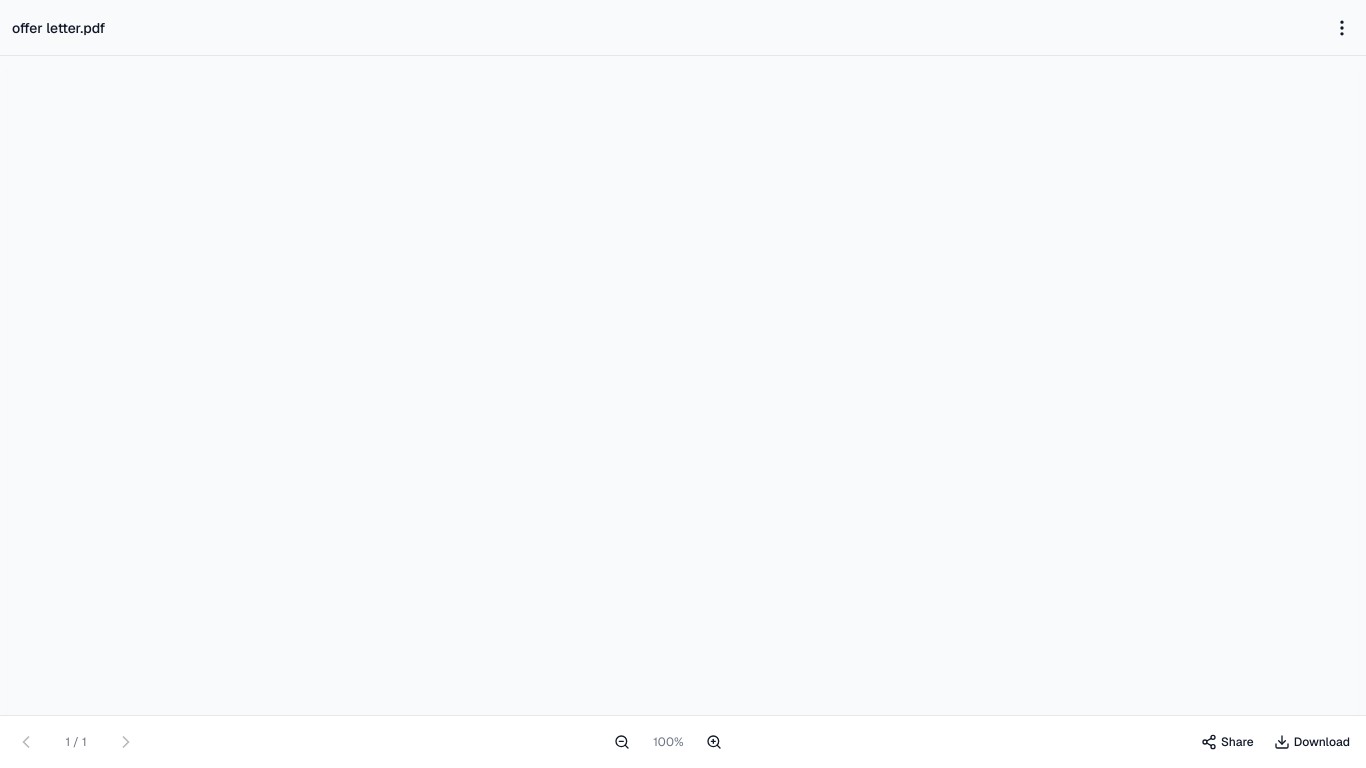
Scenario: PdfViewer — download › shows an error message if the download fetch fails, without crashing
The width and height of the screenshot is (1366, 768).
Expected: the text "1 / 1" is shown, [66, 734, 86, 750]
What coordinates should you click on to do the following:
click the button "Download"
I would click on:
 (1312, 742)
Its box is [1266, 724, 1358, 760].
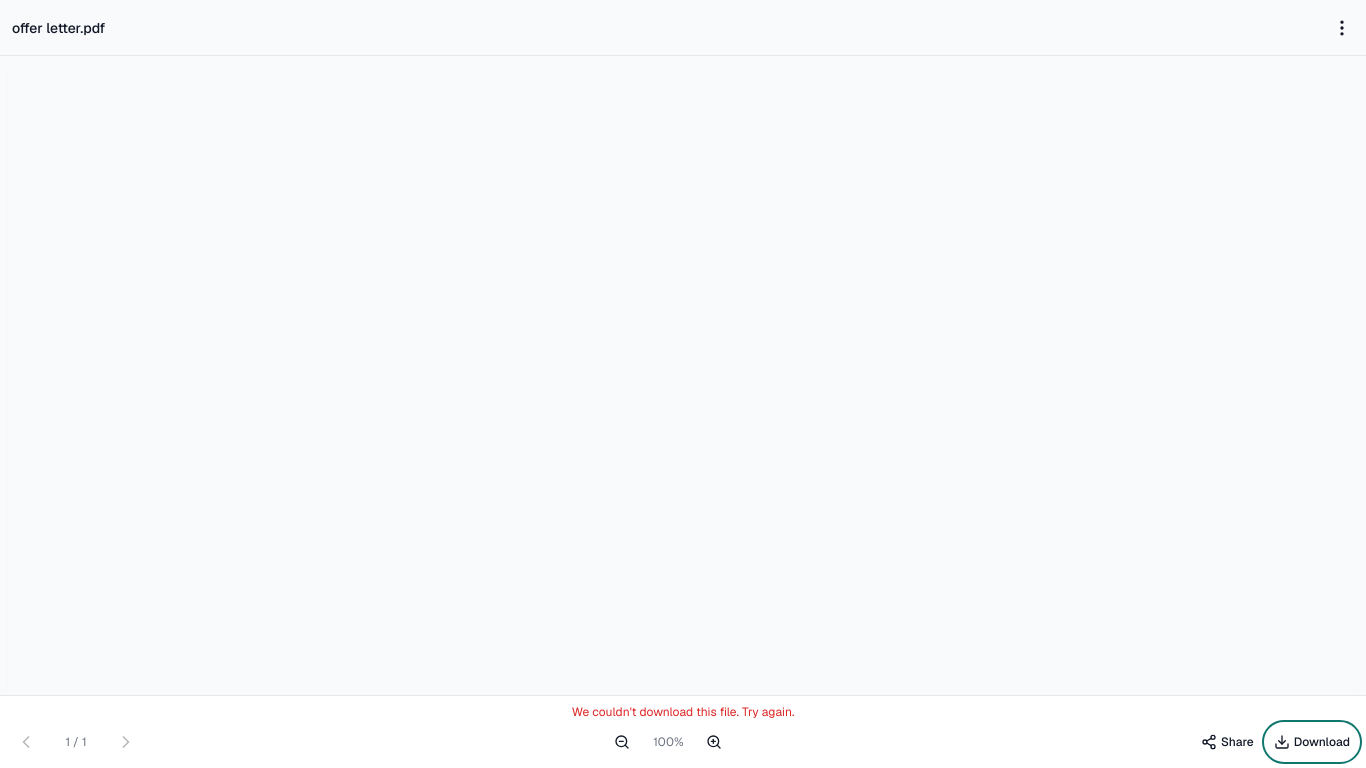
Now the text "We couldn't download this file. Try again." is shown, box [572, 704, 794, 720]
